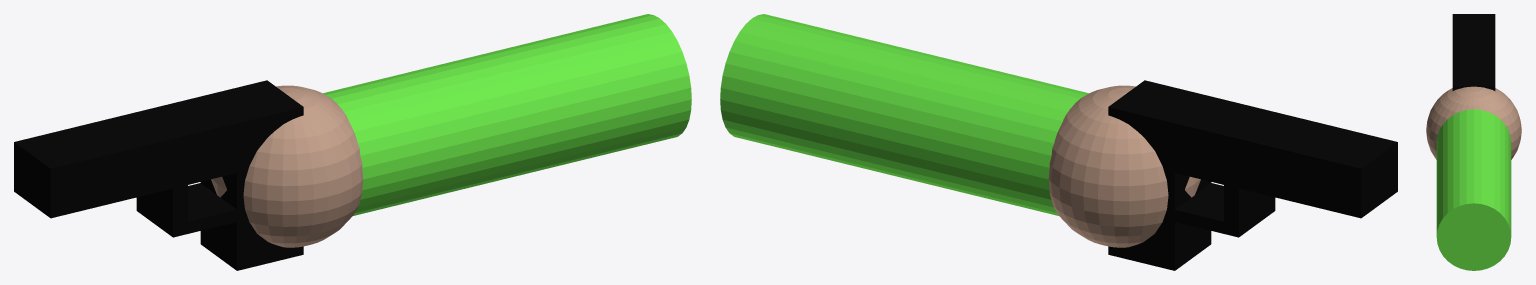
File: hand1.fbx
The picture shows the model from 3 angles, left to right: view 1: azimuth 30°, elevation 25°; view 2: azimuth 150°, elevation 25°; view 3: azimuth 270°, elevation 25°; orthographic projection. The views are drawn at different scales.
Parts seen in each view (by area): view 1: Cylinder, Cube.001, Sphere; view 2: Cylinder, Cube.001, Sphere; view 3: Cylinder, Cube.001, Sphere.
Part boxes in pixels (<box>): Cylinder: <box>323,14,691,215</box>; Cube.001: <box>14,80,303,270</box>; Sphere: <box>211,85,363,247</box>; Cylinder: <box>720,14,1088,215</box>; Cube.001: <box>1108,80,1397,270</box>; Sphere: <box>1048,85,1200,247</box>; Cylinder: <box>1436,109,1511,270</box>; Cube.001: <box>1452,14,1495,90</box>; Sphere: <box>1426,86,1521,159</box>.
Bounding box in the file's own units: 889 × 200 × 200.
